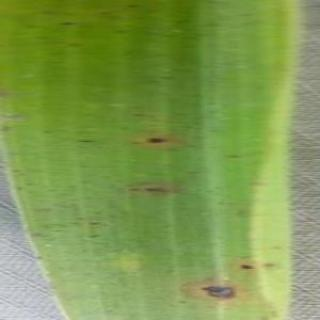bercak-Cokelat: (242, 255, 280, 278), (142, 129, 173, 156)
